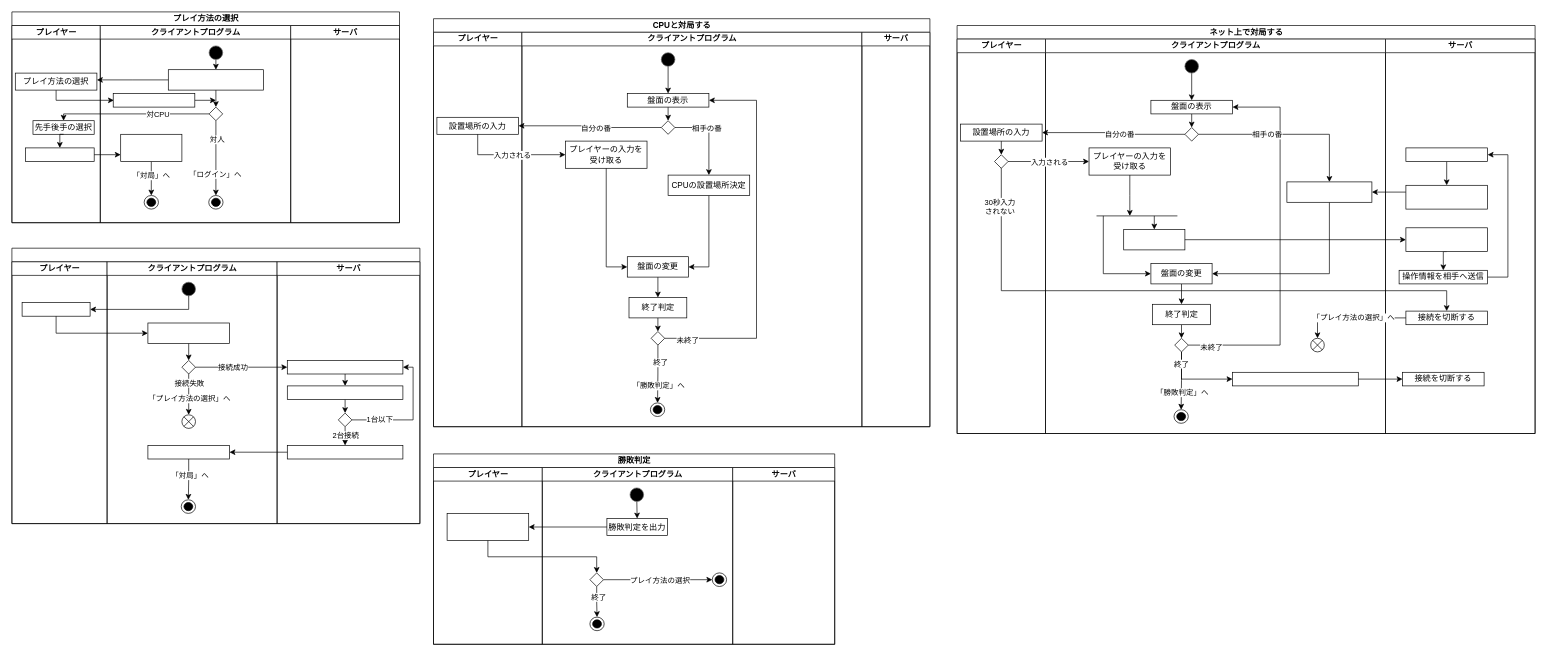
This 1547x656 diagram has some shape labels left out. Here are the shapes that lost their labels. From the top down, the box of each, then its label:
(168, 69, 264, 90): スタート画面
(113, 93, 195, 107): 選択を受け取る
(25, 147, 94, 162): CPUの強さを選択
(120, 134, 182, 162): CPUプログラムを呼び出す
(1405, 147, 1488, 162): 相手の操作情報受信
(1286, 181, 1372, 202): 相手の入力を受け取る
(1405, 185, 1488, 209): 相手の操作情報をクライアントへ送信
(1123, 229, 1185, 250): 入力情報を送信
(1405, 227, 1488, 252): クライアントの操作情報を受信
(21, 302, 90, 316): プレイヤー名入力
(147, 322, 230, 343): プレイヤー名表示し サーバに接続
(11, 248, 420, 524): ログイン
(287, 360, 403, 374): クライアントプログラムの接続
(1232, 372, 1358, 386): 終了したことをサーバに知らせる
(287, 385, 403, 400): クライアント接続状態の確認
(147, 445, 230, 459): 先手後手情報の受信
(287, 445, 403, 459): 先手後手情報と相手の名前送信
(446, 513, 529, 541): 終了かスタート画面へ戻るか選択
